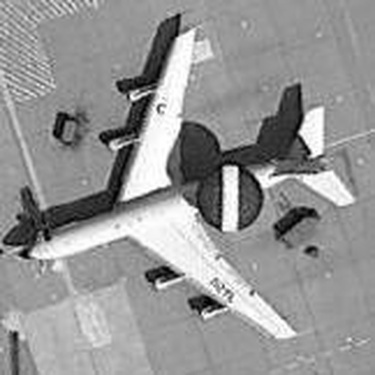airplane: (17, 9, 361, 340)
